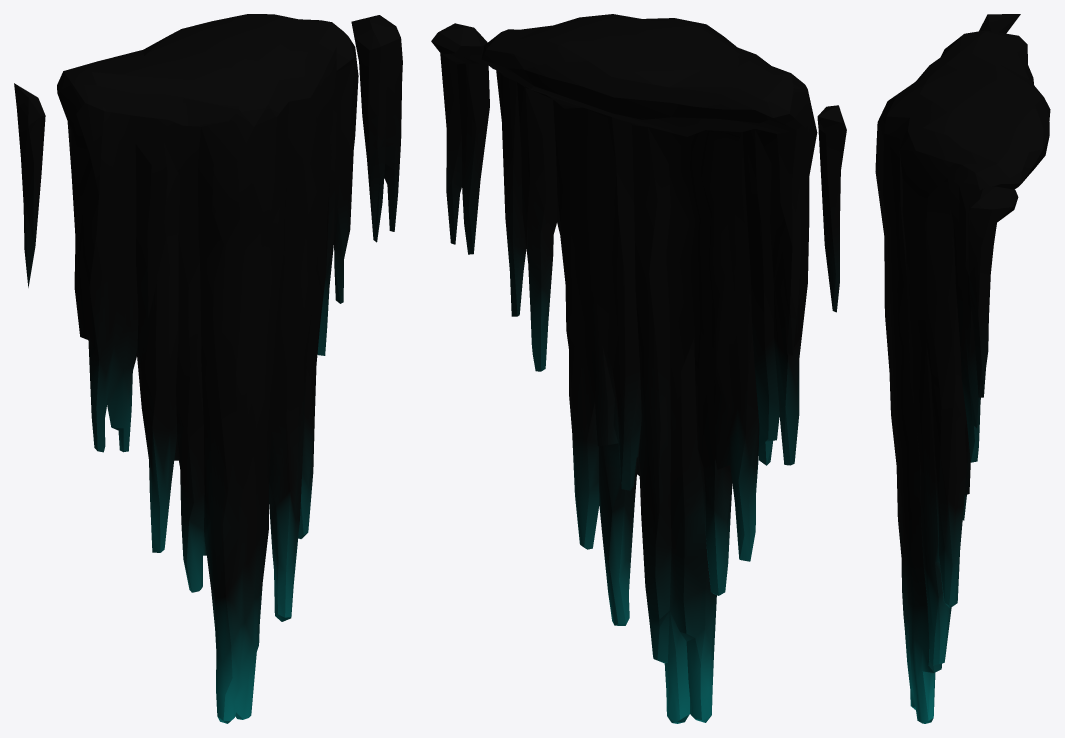
Rendered from Stalactite_0.fbx.
3 renders of one model, left to right at view 1: azimuth 30°, elevation 25°; view 2: azimuth 150°, elevation 25°; view 3: azimuth 270°, elevation 25°, orthographic. The views are drawn at different scales.
Parts seen in each view (by area): view 1: Stalactite_0_LOD0; view 2: Stalactite_0_LOD0; view 3: Stalactite_0_LOD0.
Part boxes in pixels (box(x1,y1,x2,y2)): Stalactite_0_LOD0: box(14, 14, 402, 723); Stalactite_0_LOD0: box(431, 14, 846, 723); Stalactite_0_LOD0: box(875, 14, 1050, 723).
Size of what is drawn, in the model's own units: 89.9 by 150 by 37.14.
